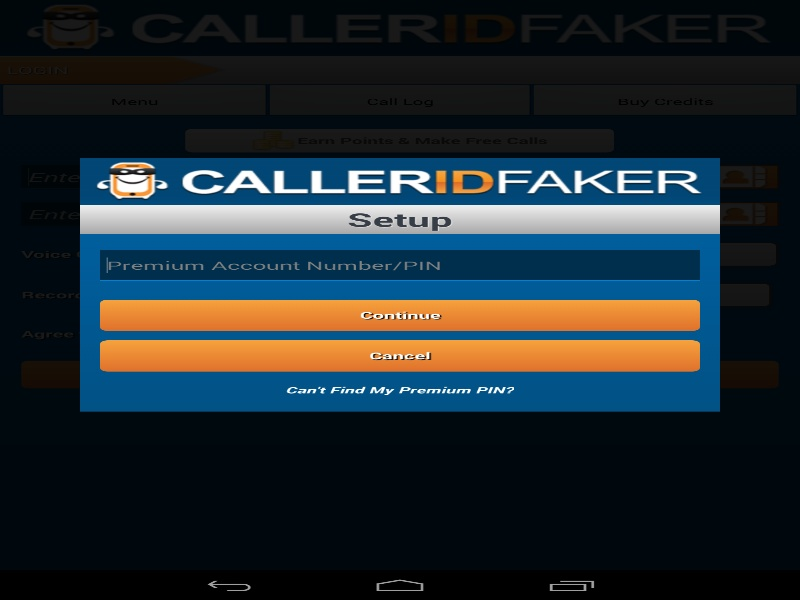Button: (100, 299, 700, 330), (100, 340, 700, 371)
Input: (100, 249, 700, 280)
